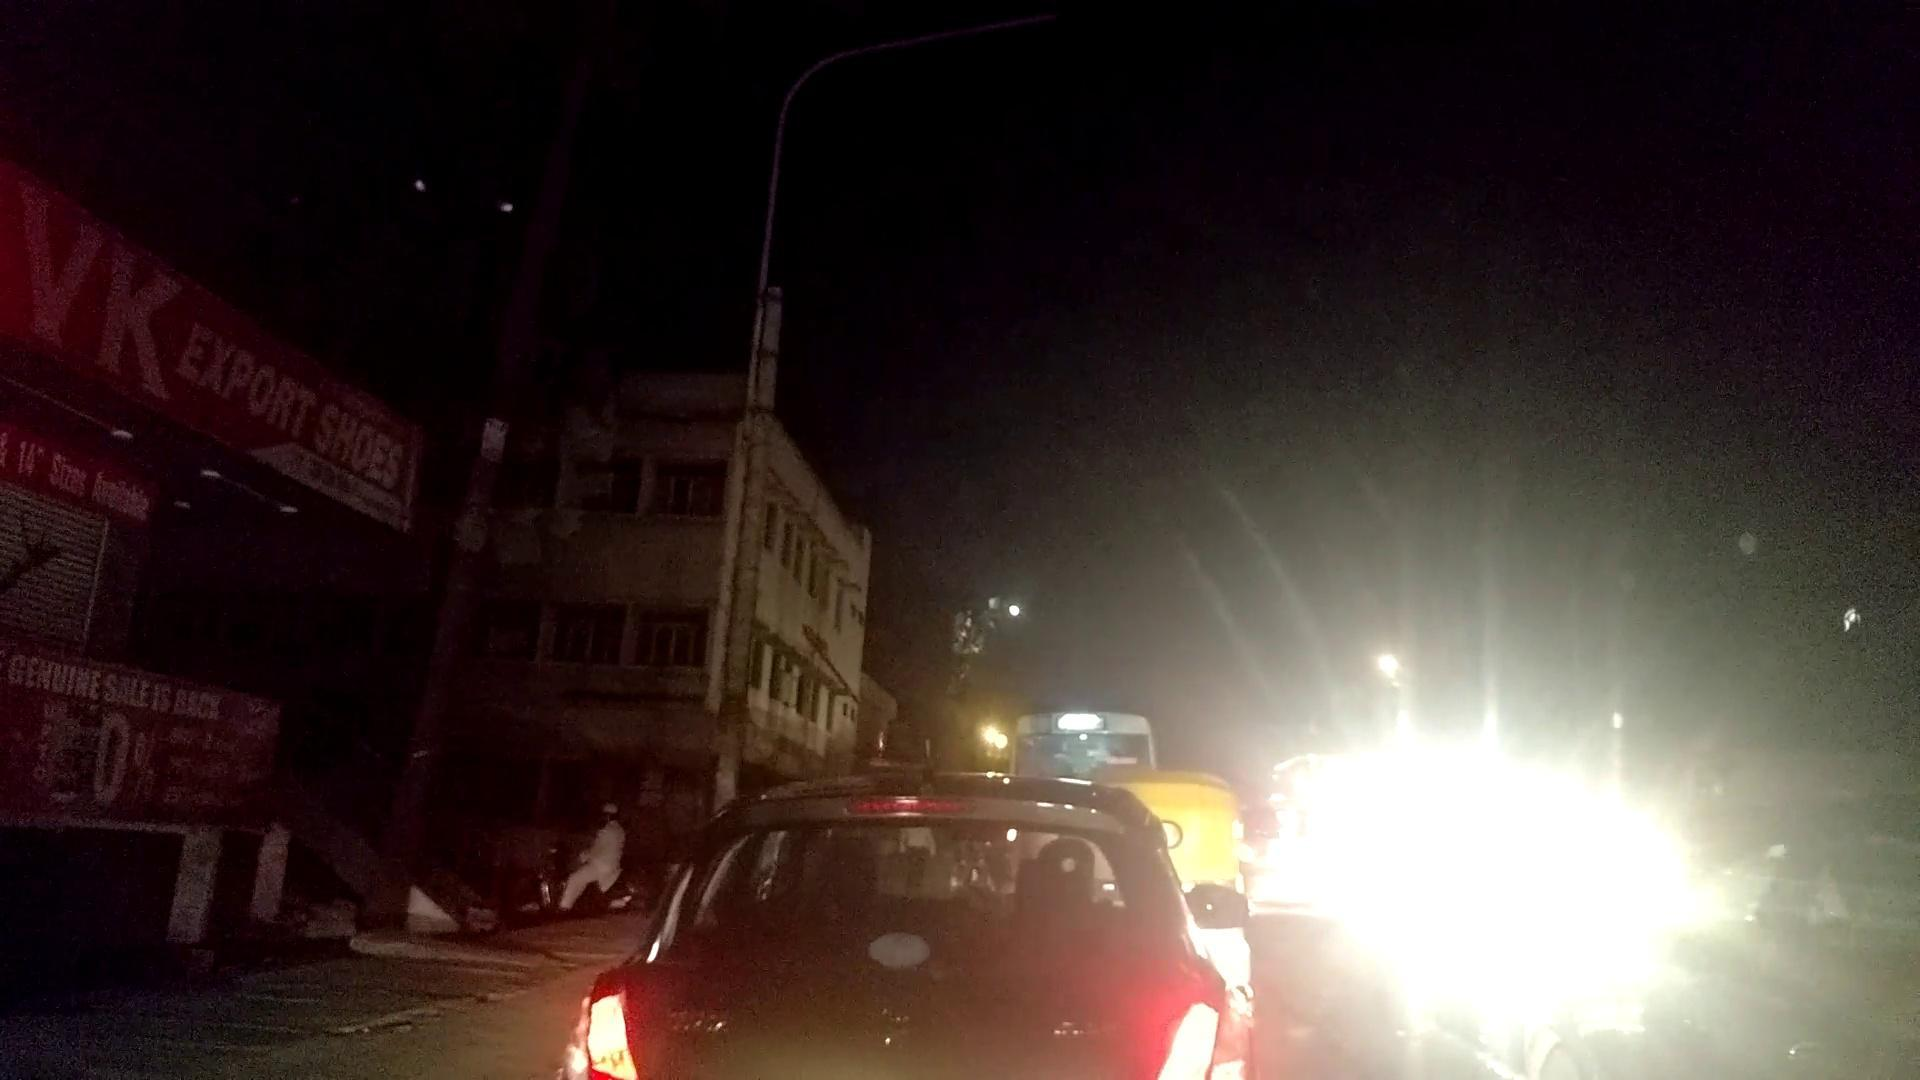on: (820, 483, 1366, 787)
